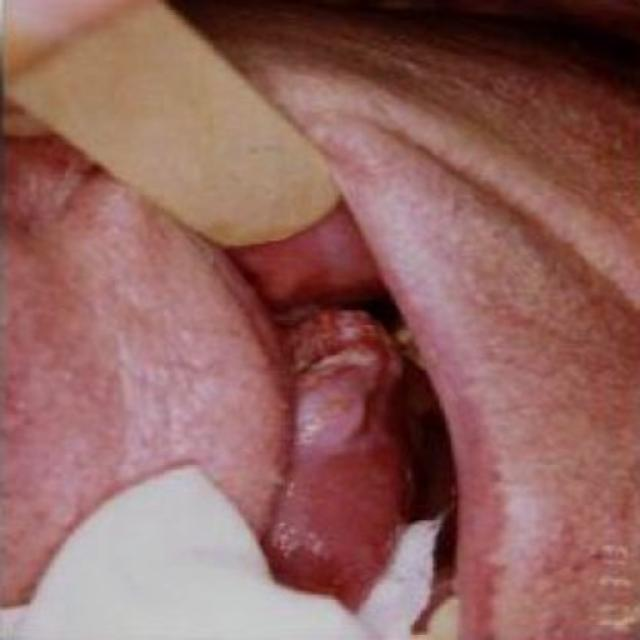cancer-detection: (220, 199, 453, 613)
processing_area: (2, 143, 454, 614)
